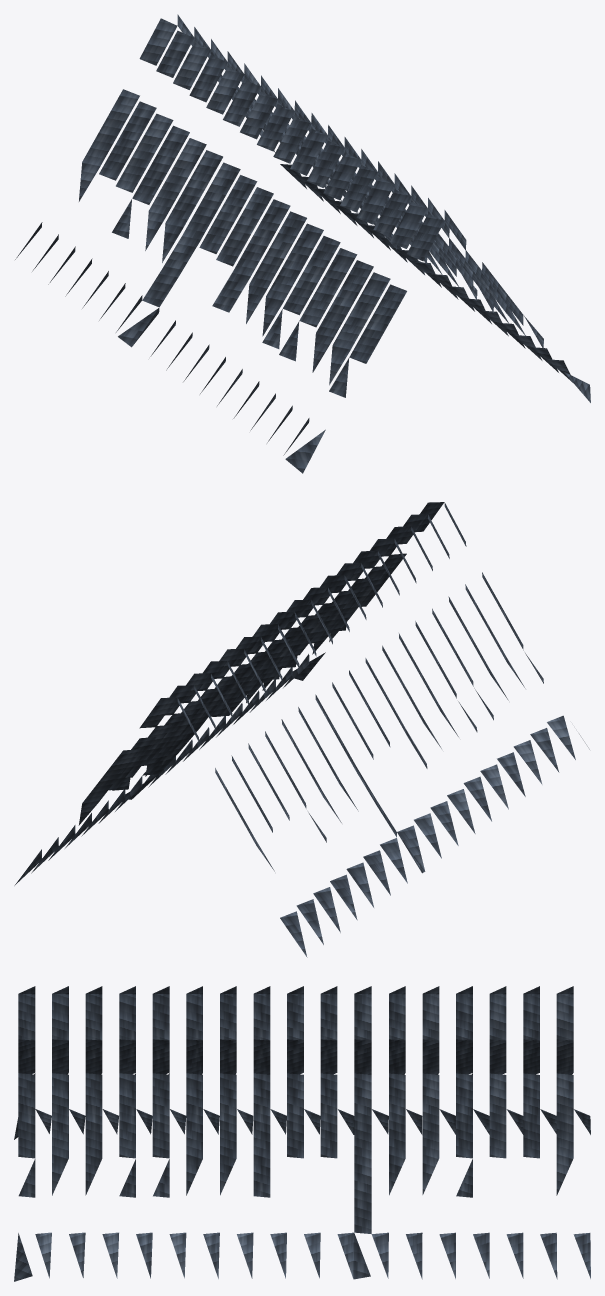
The model's file is Roof_Slate_4x8_LOD2.gltf.
3 renders of one model, top to bottom at view 1: azimuth 30°, elevation 25°; view 2: azimuth 150°, elevation 25°; view 3: azimuth 270°, elevation 25°, orthographic.
Visible parts, largest first — view 1: Roof_Slate_4x8_LOD2; view 2: Roof_Slate_4x8_LOD2; view 3: Roof_Slate_4x8_LOD2.
Part boxes in pixels (<box>): Roof_Slate_4x8_LOD2: <box>15,14,590,473</box>; Roof_Slate_4x8_LOD2: <box>14,502,589,957</box>; Roof_Slate_4x8_LOD2: <box>14,986,590,1281</box>.
Size of the model in its own units: 5.51 by 3.79 by 8.97.
Materials: 1 (1 with a texture image).
